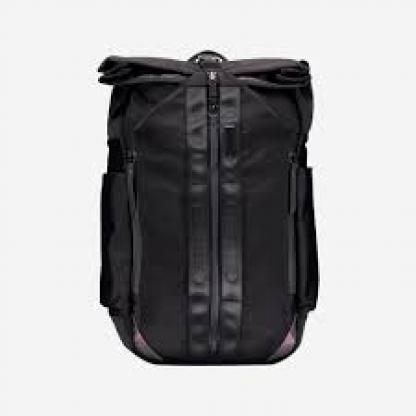morral: (74, 35, 340, 375)
